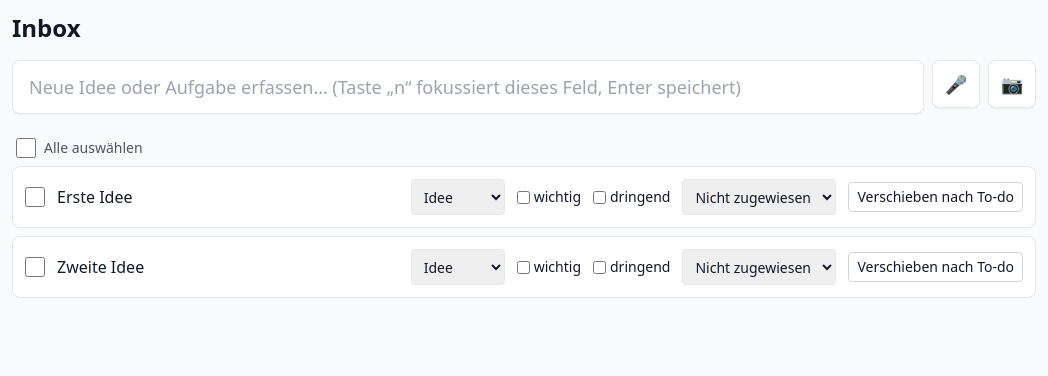
Scenario: Inbox bulk selection › selects all visible items via the 'Alle auswählen' checkbox
Expected: the link "Erste Idee" is shown, [57,186,132,208]
Click the checkbox labelled "Alle auswählen": (26, 148) [16,138,36,158]
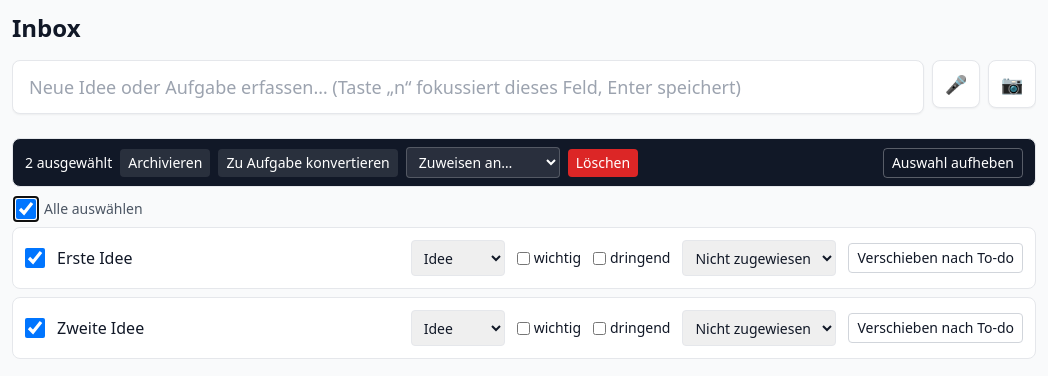
Now the text "2 ausgewählt" is shown, box [25,152,112,172]
